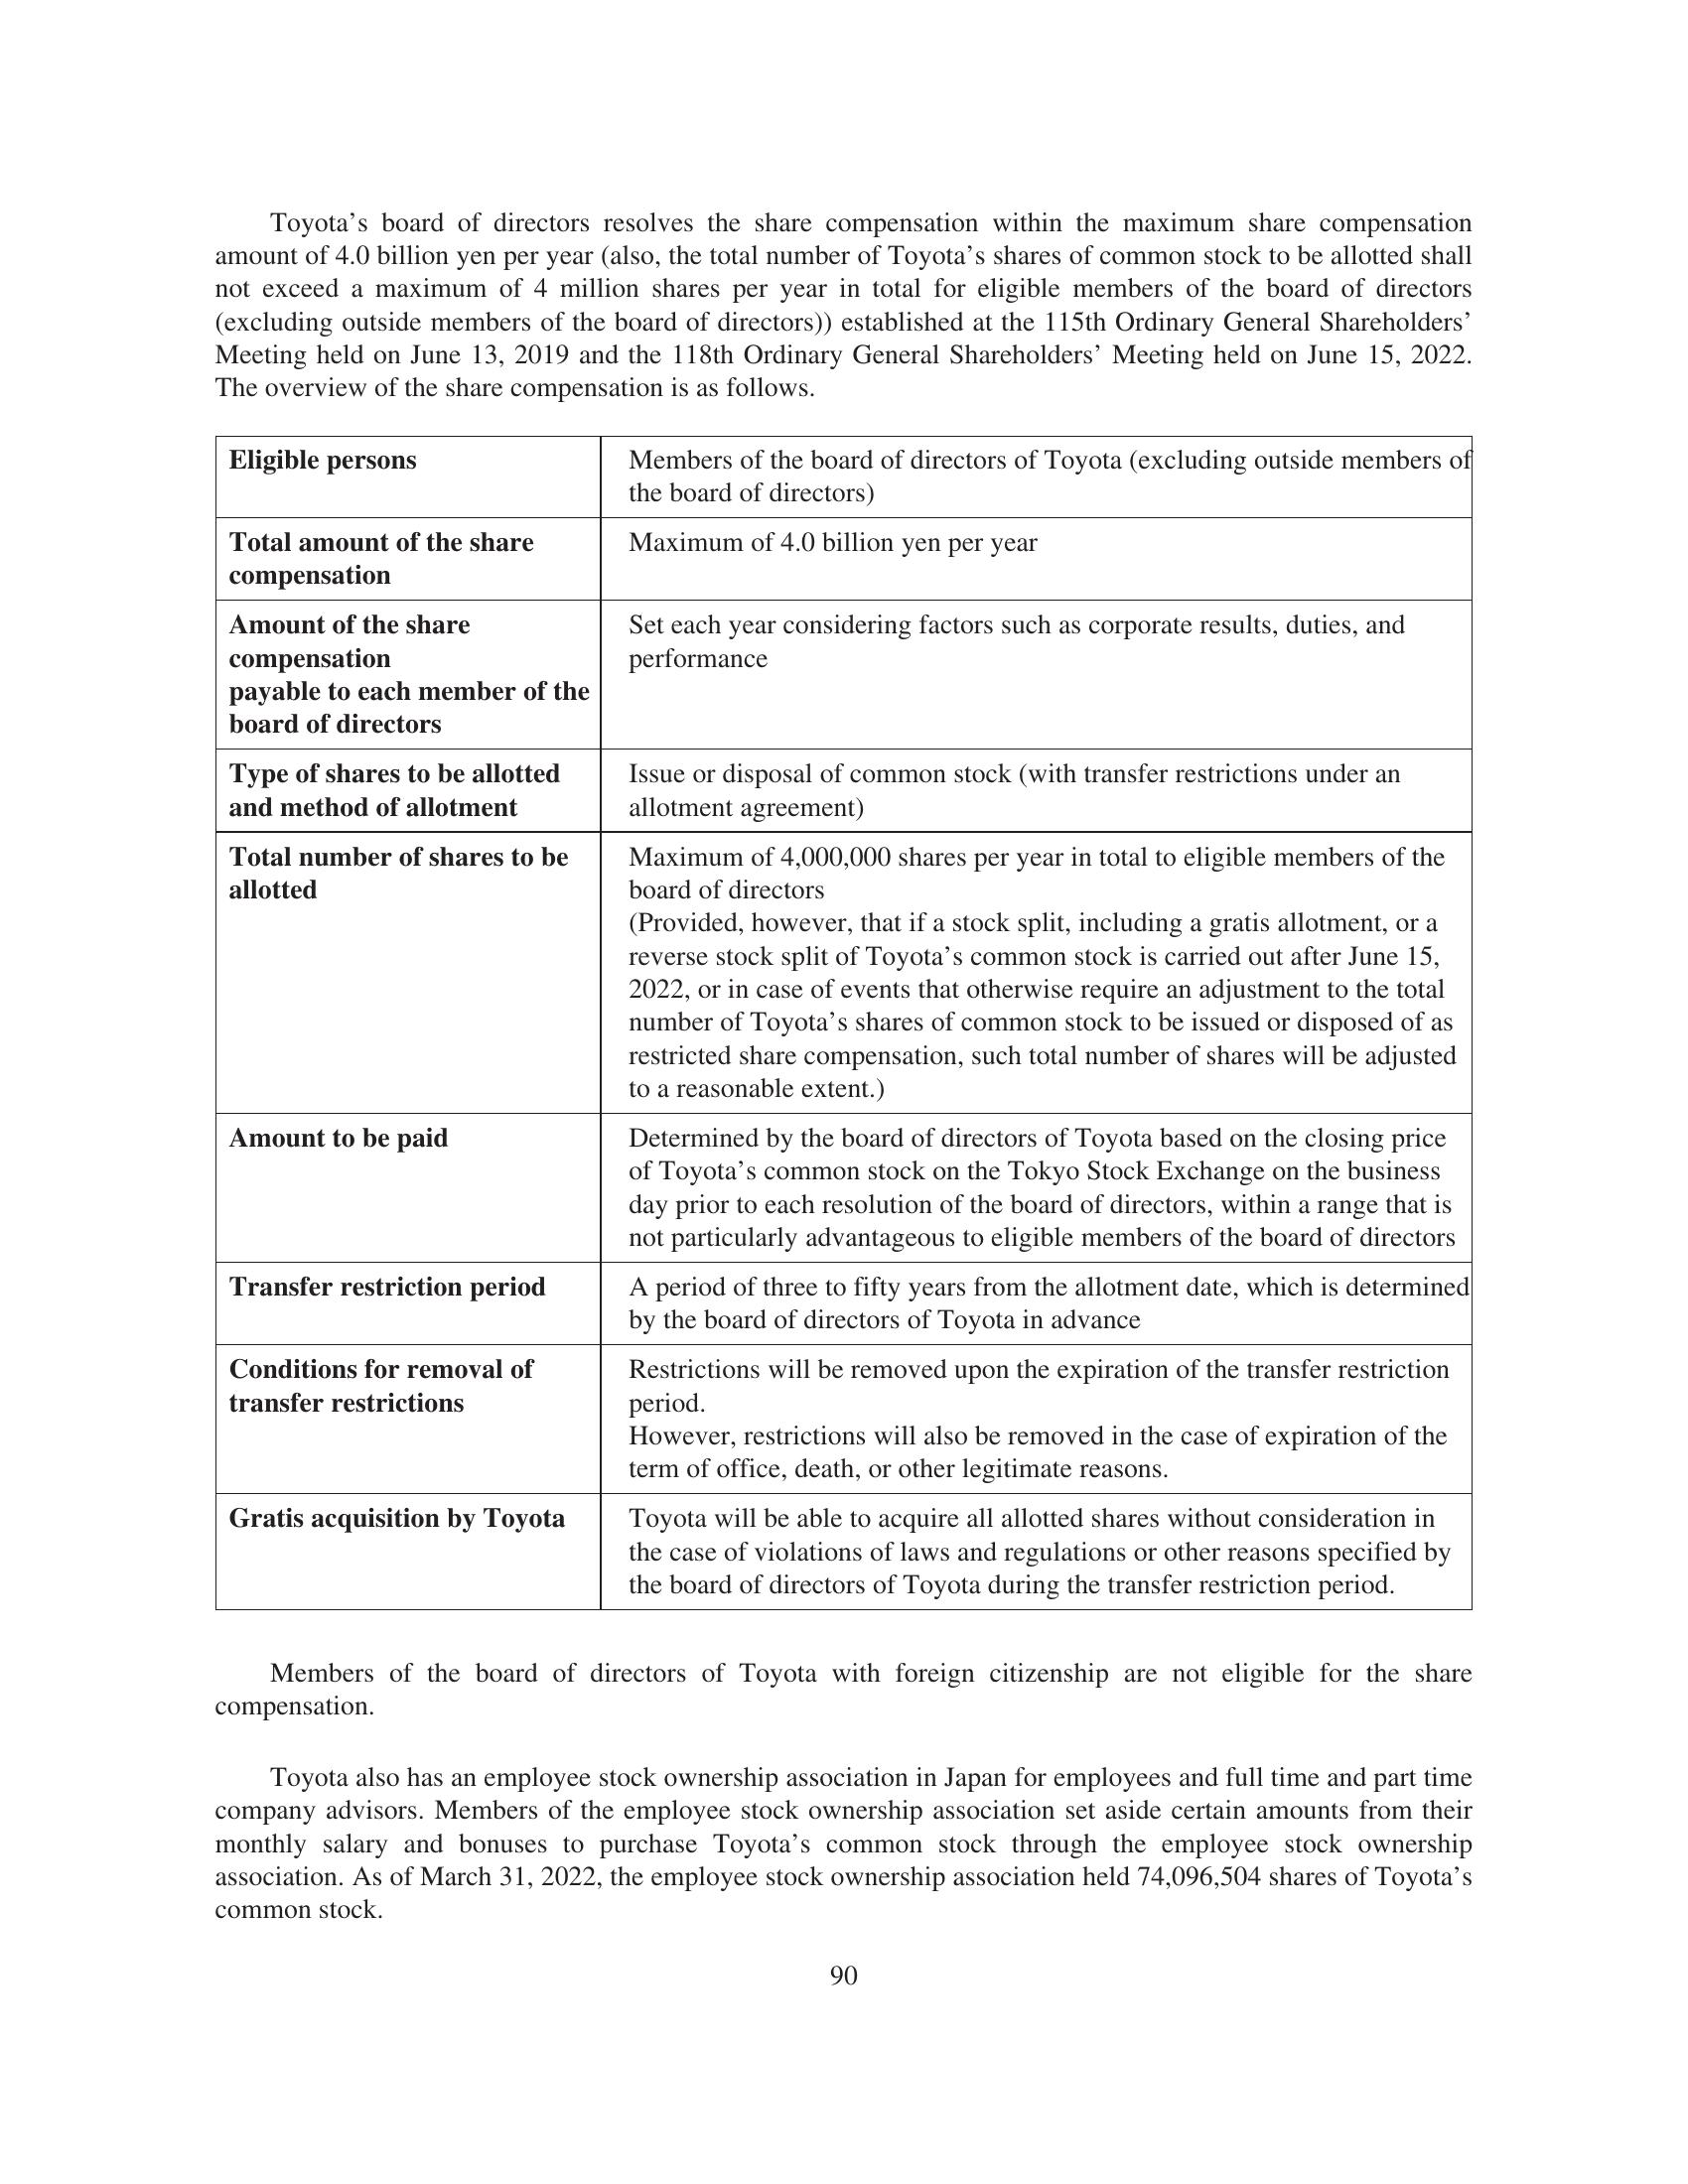Footer: (0, 1946, 1688, 2184)
Header: (0, 0, 1688, 200)
Table: (142, 413, 1555, 1622)
